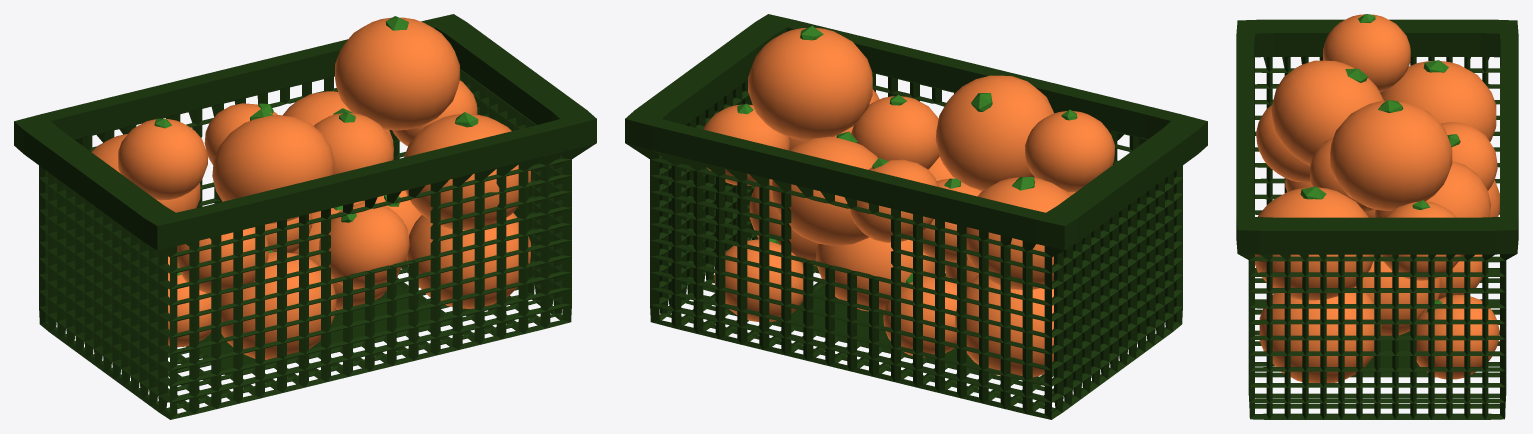
The model's file is box of orange.fbx.
3 renders of one model, left to right at view 1: azimuth 30°, elevation 25°; view 2: azimuth 150°, elevation 25°; view 3: azimuth 270°, elevation 25°, orthographic. The views are drawn at different scales.
Visible parts, largest first — view 1: Cube, Icosphere.018, Icosphere.015, Icosphere.014, Icosphere.010, Icosphere.007, Icosphere.006, Icosphere.002, Icosphere.017, Icosphere.012, Icosphere.016, Icosphere.009 (+6 smaller); view 2: Cube, Icosphere.018, Icosphere.015, Icosphere.014, Icosphere.009, Icosphere.017, Icosphere.013, Icosphere.004, Icosphere, Icosphere.005, Icosphere.016, Icosphere.003 (+3 smaller); view 3: Cube, Icosphere.018, Icosphere.015, Icosphere.013, Icosphere.006, Icosphere.007, Icosphere.014, Icosphere.005, Icosphere.009, Icosphere.016, Icosphere.004, Icosphere.012 (+4 smaller).
Part boxes in pixels (x1,y1,x2,y2): Cube: (14, 14, 596, 419); Icosphere.018: (335, 16, 459, 130); Icosphere.015: (212, 108, 334, 224); Icosphere.014: (118, 118, 207, 200); Icosphere.010: (319, 202, 409, 288); Icosphere.007: (404, 112, 530, 230); Icosphere.006: (406, 213, 530, 308); Icosphere.002: (221, 250, 336, 359); Icosphere.017: (313, 112, 393, 174); Icosphere.012: (177, 227, 268, 294); Icosphere.016: (204, 103, 277, 165); Icosphere.009: (282, 91, 393, 201); Cube: (625, 14, 1207, 419); Icosphere.018: (748, 26, 872, 140); Icosphere.015: (935, 75, 1054, 191); Icosphere.014: (1025, 109, 1114, 192); Icosphere.009: (772, 131, 877, 245); Icosphere.017: (851, 94, 939, 169); Icosphere.013: (966, 177, 1070, 289); Icosphere.004: (816, 237, 934, 311); Icosphere: (955, 275, 1053, 377); Icosphere.005: (714, 238, 803, 321); Icosphere.016: (850, 158, 938, 242); Icosphere.003: (883, 273, 956, 357); Cube: (1236, 19, 1518, 419); Icosphere.018: (1330, 100, 1452, 210); Icosphere.015: (1271, 60, 1383, 165); Icosphere.013: (1380, 60, 1496, 141); Icosphere.006: (1259, 286, 1381, 382); Icosphere.007: (1255, 186, 1374, 300); Icosphere.014: (1323, 14, 1410, 91); Icosphere.005: (1416, 294, 1499, 379); Icosphere.009: (1374, 161, 1491, 256); Icosphere.016: (1441, 122, 1497, 190); Icosphere.004: (1362, 261, 1441, 335); Icosphere.012: (1256, 105, 1310, 182).
Size of the model in its own units: 397 by 239 by 224.
